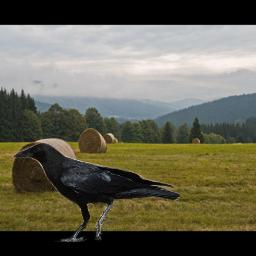Crow: (12, 141, 180, 242)
